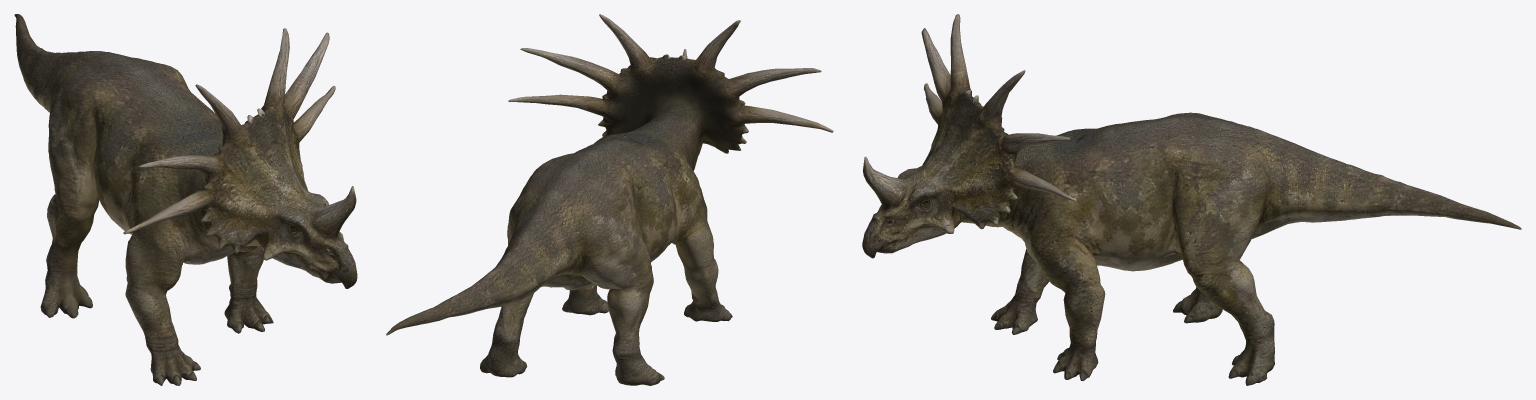
File: styracosaurus.glb
3 views of the same model, side by side, from view 1: azimuth 30°, elevation 25°; view 2: azimuth 150°, elevation 25°; view 3: azimuth 270°, elevation 25° (orthographic). The views are drawn at different scales.
Visible parts, largest first — view 1: dino; view 2: dino; view 3: dino.
Part boxes in pixels (x1,y1,x2,y2): dino: (14, 14, 357, 385); dino: (386, 14, 833, 385); dino: (862, 14, 1521, 385).
Size of the model in its own units: 2.71 by 2.84 by 5.5.
1 material, 1 textured.
